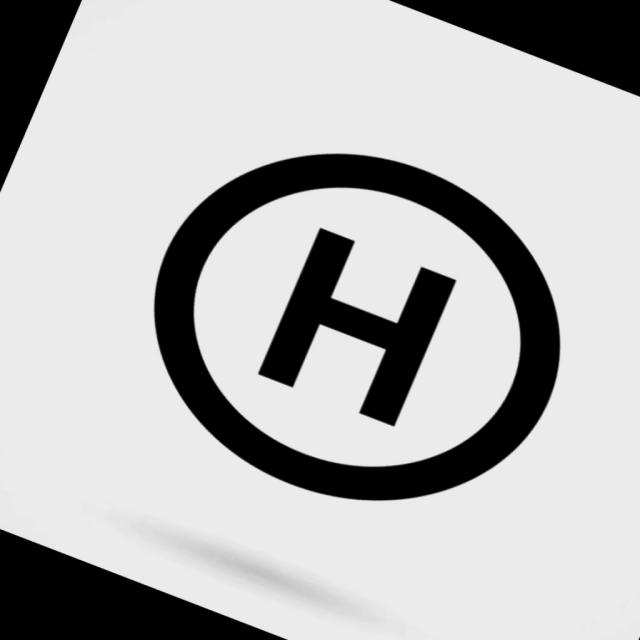helipad: (148, 142, 568, 502)
